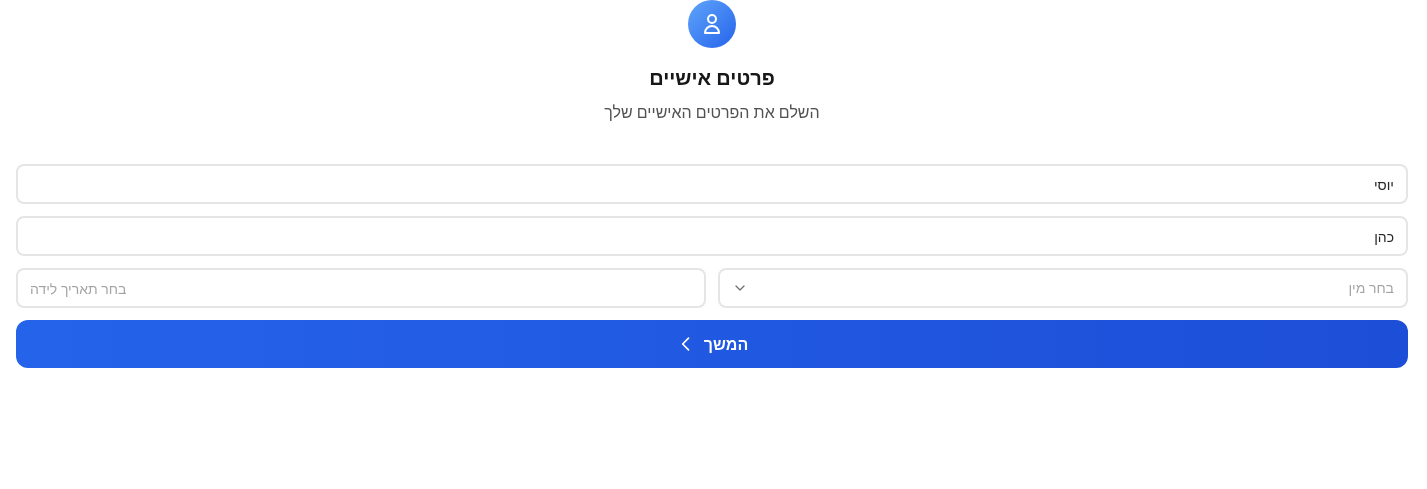
Test: PersonalDetailsStep › Form Input Handling › selects a gender via the Listbox
Click the button "בחר מין" at (1371, 288), box x1=718 y1=268 x2=1408 y2=308
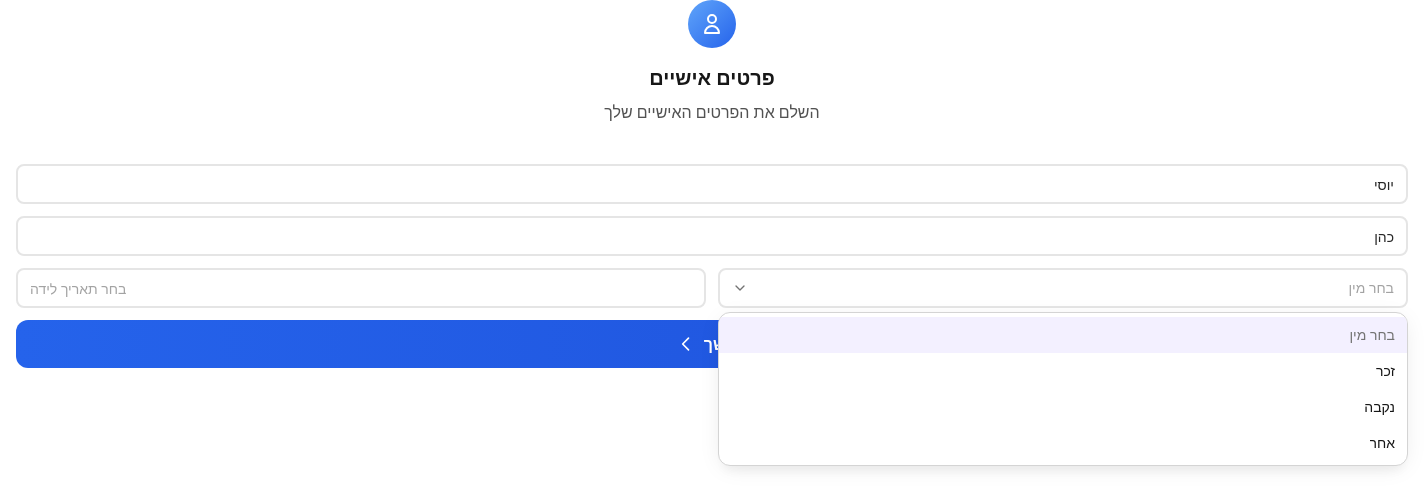
Click the option "זכר" at (1385, 370), box x1=1376 y1=361 x2=1395 y2=380
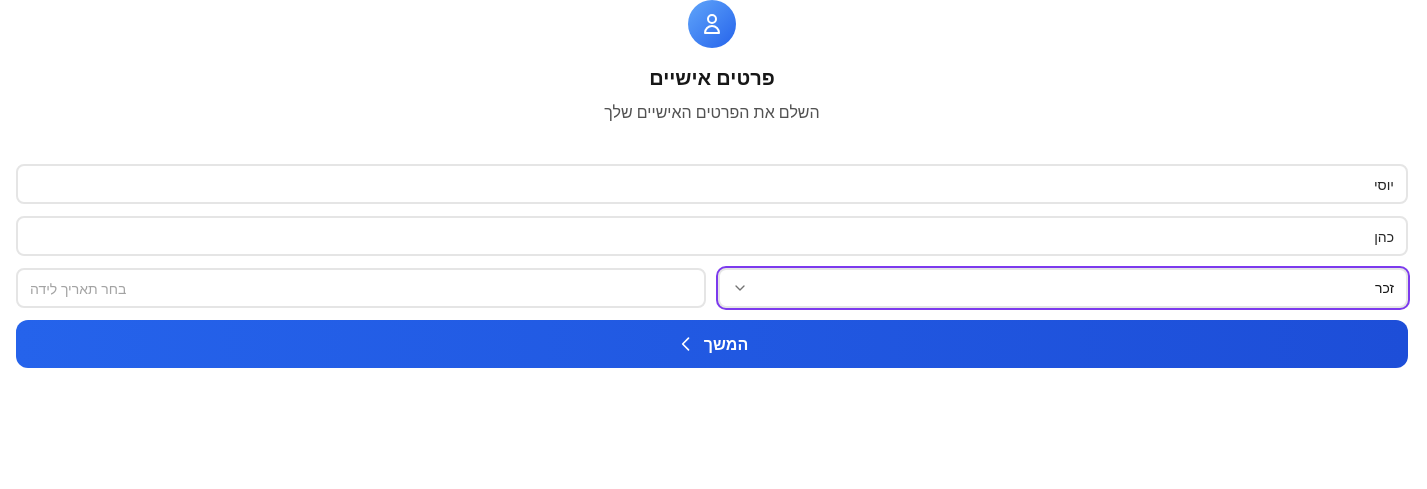
Result: the text "זכר" is shown at x1=1375 y1=278 x2=1394 y2=298
